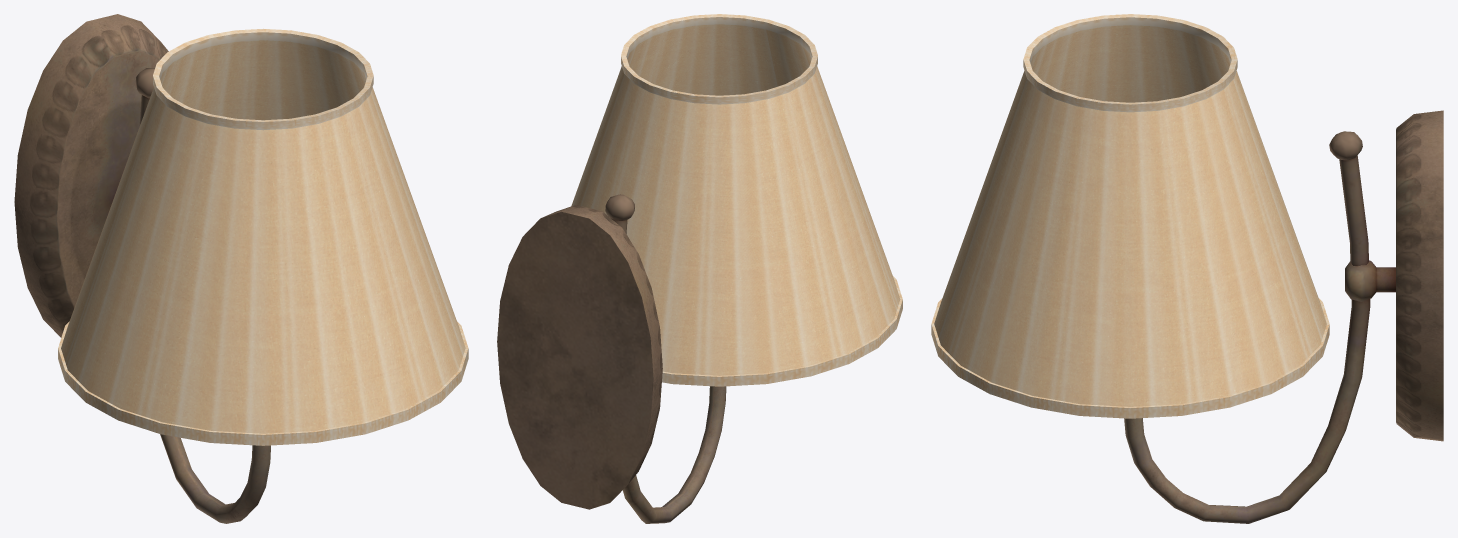
The model's file is LightWallRetro01.FBX.
3 views of the same model, side by side, from view 1: azimuth 30°, elevation 25°; view 2: azimuth 150°, elevation 25°; view 3: azimuth 270°, elevation 25° (orthographic). The views are drawn at different scales.
Parts seen in each view (by area): view 1: LightWallRetro01; view 2: LightWallRetro01; view 3: LightWallRetro01.
Part boxes in pixels (left/top/right/bottom): LightWallRetro01: left=14, top=14, right=468, bottom=523; LightWallRetro01: left=497, top=14, right=902, bottom=523; LightWallRetro01: left=931, top=14, right=1443, bottom=523.
Bounding box in the file's own units: 239 × 308 × 308.
